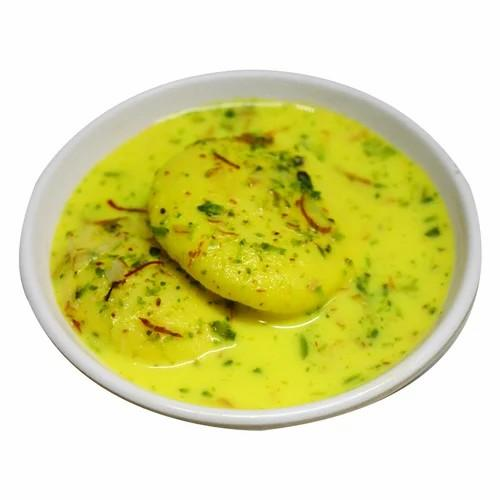RasMalai: (48, 102, 456, 405)
